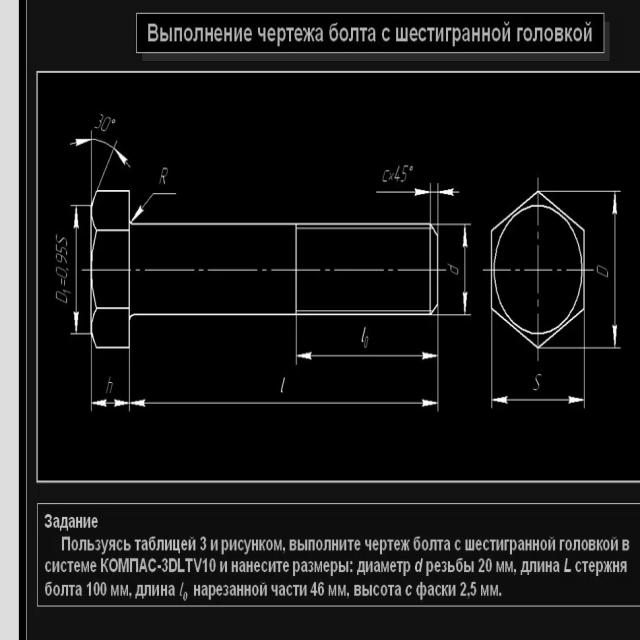marking_line: (130, 399, 438, 407), (610, 193, 621, 348), (299, 351, 438, 361), (493, 393, 583, 405), (72, 208, 80, 333), (460, 226, 470, 313), (377, 188, 429, 198), (94, 399, 129, 408), (439, 186, 464, 198)
numeric: (54, 232, 69, 283), (94, 111, 115, 135), (393, 164, 408, 187), (103, 374, 115, 398)
special_symbol: (72, 137, 134, 188), (133, 189, 177, 221), (364, 336, 369, 351), (409, 164, 413, 173)
